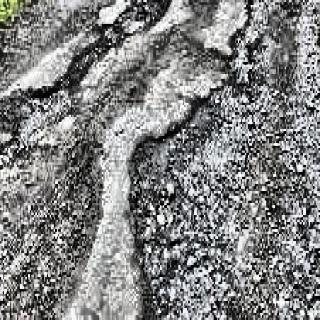pothole: (124, 0, 318, 320)
